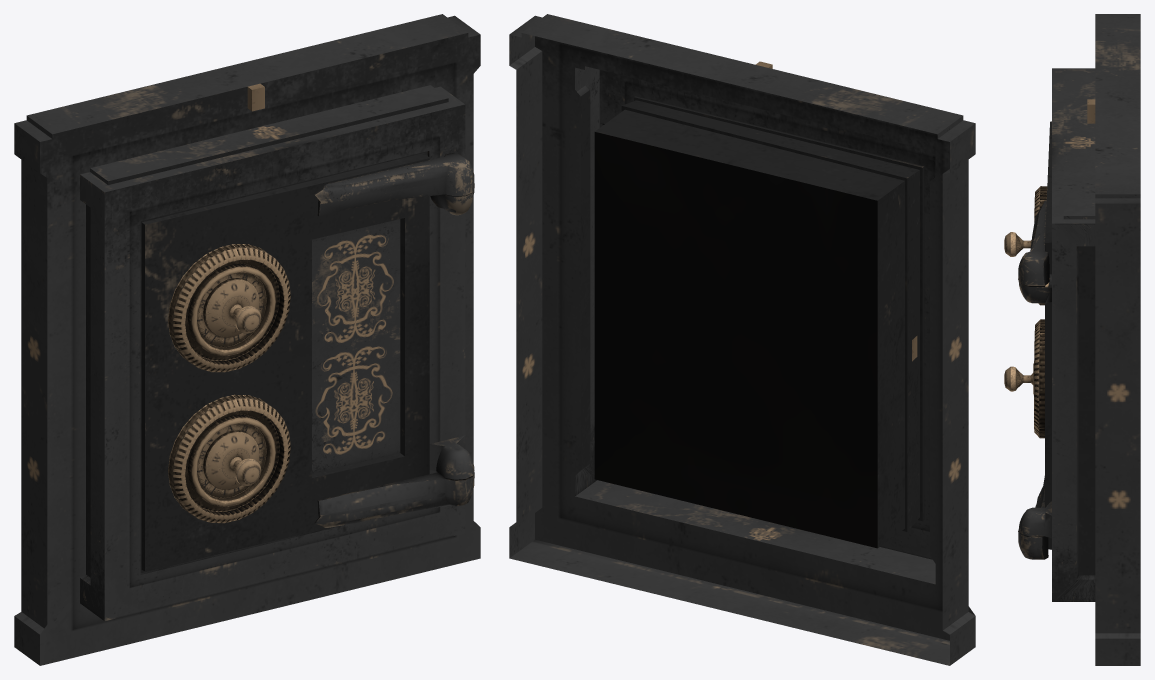
File: Wall Safe Openable Animatable 02.fbx
The picture shows the model from 3 angles, left to right: view 1: azimuth 30°, elevation 25°; view 2: azimuth 150°, elevation 25°; view 3: azimuth 270°, elevation 25°; orthographic projection. The views are drawn at different scales.
Parts seen in each view (by area): view 1: safe, Door, Dial_Main_02, Dial_Main; view 2: safe, Door; view 3: safe, Door, Dial_Main, Dial_Main_02.
Boxes of the visible parts, bbox=[...] form: safe: bbox=[14, 14, 480, 665]; Door: bbox=[141, 152, 474, 570]; Dial_Main_02: bbox=[203, 278, 261, 337]; Dial_Main: bbox=[203, 430, 261, 489]; safe: bbox=[509, 14, 975, 665]; Door: bbox=[621, 100, 919, 531]; safe: bbox=[1018, 14, 1140, 665]; Door: bbox=[1018, 121, 1051, 559]; Dial_Main: bbox=[1004, 363, 1033, 394]; Dial_Main_02: bbox=[1004, 232, 1031, 256].
Bounding box in the file's own units: 97.86 × 112 × 29.74.
